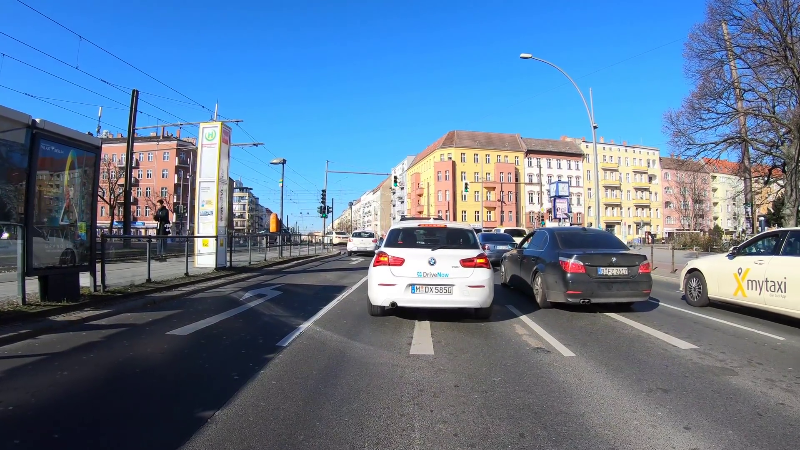Plate: (409, 282, 453, 293), (596, 265, 628, 275), (496, 244, 510, 250), (356, 246, 369, 250)
